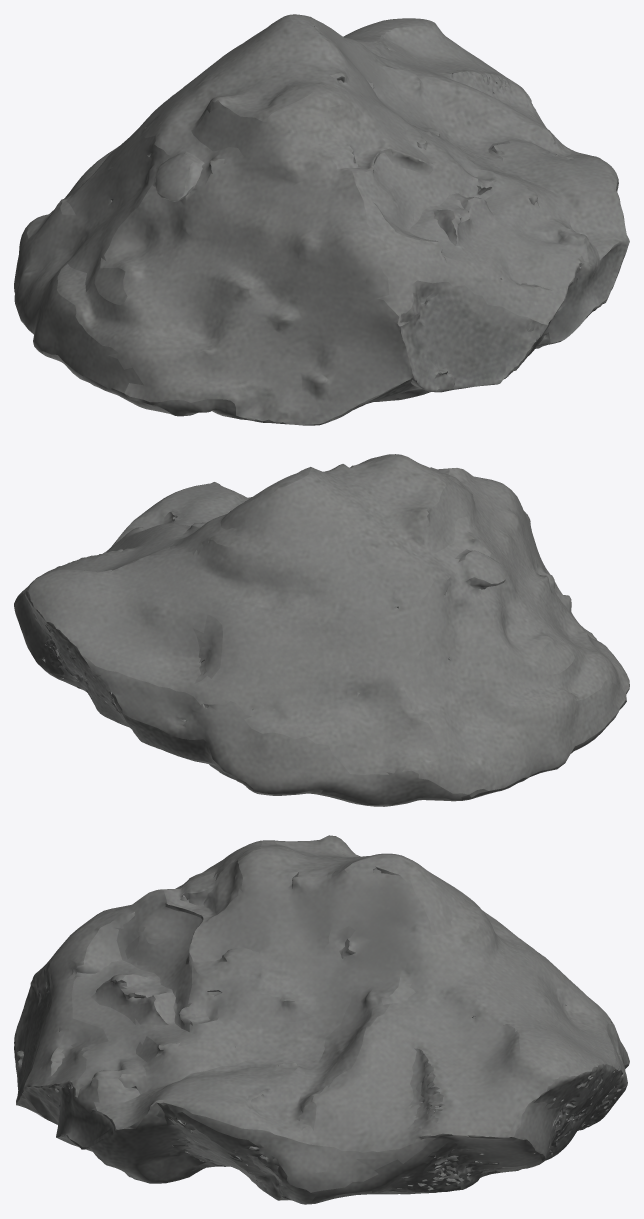
The picture shows the model from 3 angles, top to bottom: view 1: azimuth 30°, elevation 25°; view 2: azimuth 150°, elevation 25°; view 3: azimuth 270°, elevation 25°; orthographic projection. The views are drawn at different scales.
Parts seen in each view (by area): view 1: world; view 2: world; view 3: world.
Part boxes in pixels (x1,y1,x2,y2): world: (14,14,629,425); world: (14,454,629,806); world: (14,835,629,1204).
Bounding box in the file's own units: 1.2 × 0.5722 × 1.19.
Materials: 1 (1 with a texture image).
